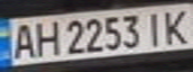2: (81, 15, 106, 54), (63, 16, 87, 56)
3: (121, 11, 145, 50)
5: (103, 14, 127, 52)
A: (6, 20, 39, 61)
H: (30, 17, 60, 57)
I: (142, 9, 169, 46)
K: (160, 6, 193, 46)
